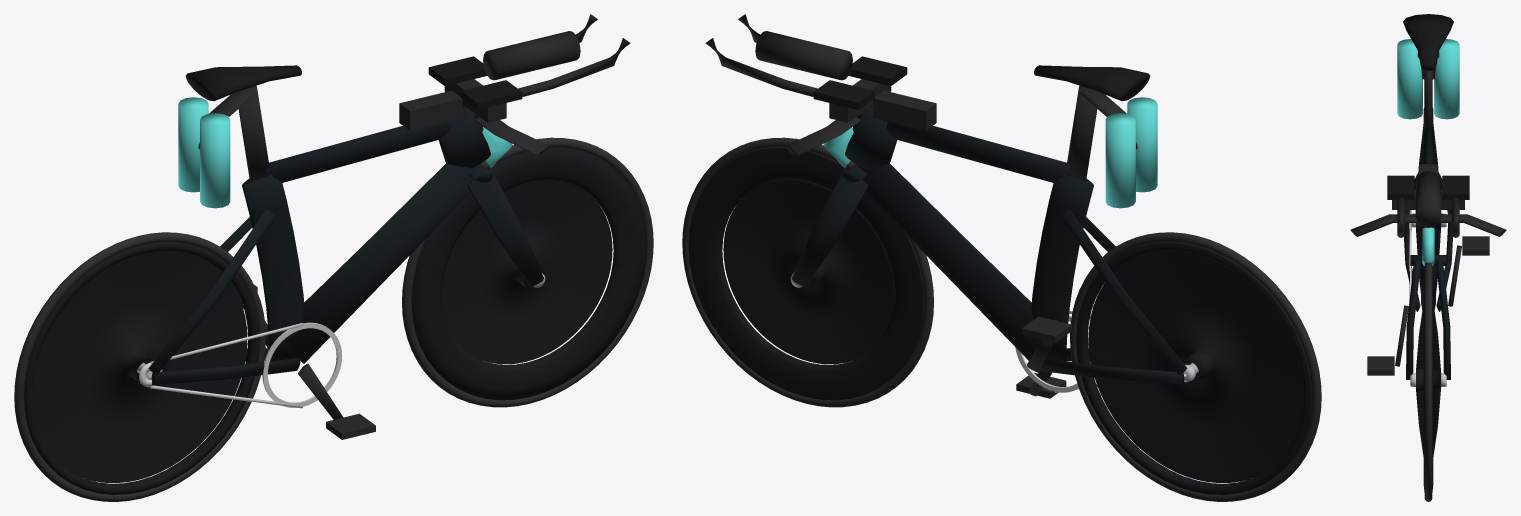
Rendered from bike.glb.
3 views of the same model, side by side, from view 1: azimuth 30°, elevation 25°; view 2: azimuth 150°, elevation 25°; view 3: azimuth 270°, elevation 25° (orthographic). The views are drawn at different scales.
Visible parts, largest first — view 1: wheel_rear_disc, wheel_front_disc, wheel_front_rim, down_tube, wheel_rear_rim, wheel_rear_tyre, seat_tube, wheel_front_tyre, top_tube, fork_l, aero_bottle, rear_bottle_-1 (+15 smaller); view 2: wheel_rear_disc, wheel_front_disc, wheel_front_rim, down_tube, wheel_rear_rim, wheel_rear_tyre, seat_tube, wheel_front_tyre, top_tube, fork_r, aero_bottle, rear_bottle_1 (+13 smaller); view 3: wheel_front_tyre, rear_bottle_-1, rear_bottle_1, saddle, wheel_front_disc, aero_bottle, base_bar, fork_l, fork_r, wheel_front_rim, armpad_l, armpad_r (+15 smaller).
Boxes of the visible parts, bbox=[...] form: wheel_rear_disc: bbox=[32, 250, 247, 482]; wheel_front_disc: bbox=[442, 180, 612, 364]; wheel_front_rim: bbox=[411, 147, 647, 400]; down_tube: bbox=[284, 163, 477, 363]; wheel_rear_rim: bbox=[24, 242, 259, 494]; wheel_rear_tyre: bbox=[14, 232, 265, 501]; seat_tube: bbox=[242, 174, 304, 361]; wheel_front_tyre: bbox=[402, 137, 653, 407]; top_tube: bbox=[265, 121, 450, 182]; fork_l: bbox=[467, 167, 543, 286]; aero_bottle: bbox=[483, 31, 580, 80]; rear_bottle_-1: bbox=[200, 113, 230, 208]; wheel_rear_disc: bbox=[1088, 250, 1303, 482]; wheel_front_disc: bbox=[723, 180, 893, 364]; wheel_front_rim: bbox=[688, 147, 924, 400]; down_tube: bbox=[858, 163, 1041, 360]; wheel_rear_rim: bbox=[1076, 242, 1311, 494]; wheel_rear_tyre: bbox=[1070, 232, 1321, 501]; seat_tube: bbox=[1031, 174, 1093, 361]; wheel_front_tyre: bbox=[682, 137, 933, 407]; top_tube: bbox=[885, 121, 1070, 182]; fork_r: bbox=[792, 167, 868, 286]; aero_bottle: bbox=[755, 31, 852, 80]; rear_bottle_1: bbox=[1105, 113, 1135, 208]; wheel_front_tyre: bbox=[1424, 262, 1432, 501]; rear_bottle_-1: bbox=[1397, 39, 1422, 119]; rear_bottle_1: bbox=[1434, 39, 1459, 119]; saddle: bbox=[1403, 14, 1453, 70]; wheel_front_disc: bbox=[1416, 303, 1440, 456]; aero_bottle: bbox=[1415, 171, 1441, 227]; base_bar: bbox=[1350, 214, 1506, 236]; fork_l: bbox=[1406, 260, 1420, 379]; fork_r: bbox=[1436, 260, 1450, 379]; wheel_front_rim: bbox=[1423, 267, 1433, 492]; armpad_l: bbox=[1387, 175, 1414, 199]; armpad_r: bbox=[1442, 175, 1469, 199].
Size of the model in its own units: 1.7 by 1.03 by 0.4281.
